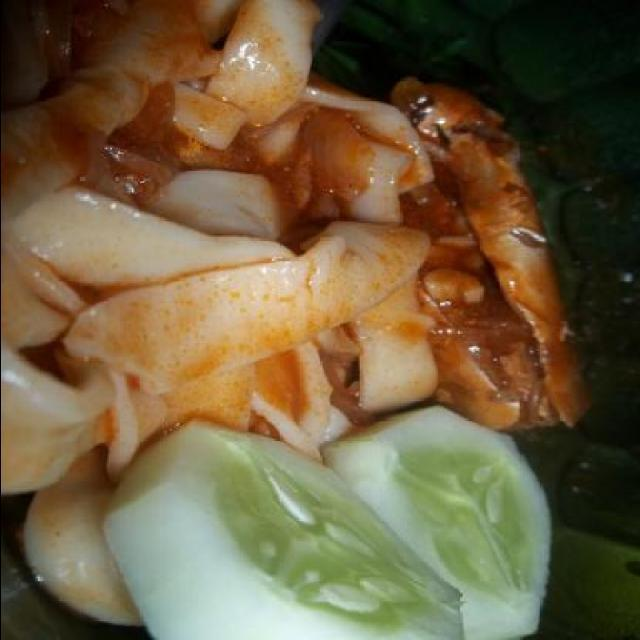Cucumber: (103, 418, 469, 640)
